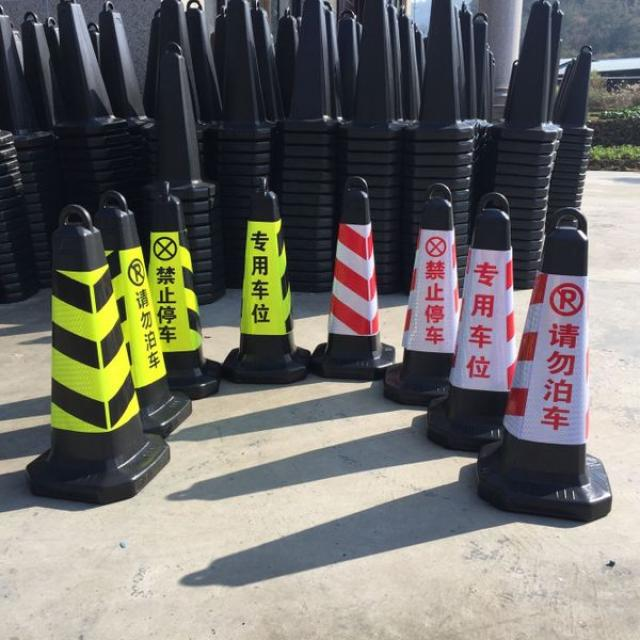reflective_cone: (20, 204, 173, 503), (477, 207, 614, 522), (92, 190, 193, 431), (423, 193, 511, 450), (220, 177, 314, 385), (380, 183, 460, 402), (142, 180, 222, 397), (314, 176, 396, 377)
